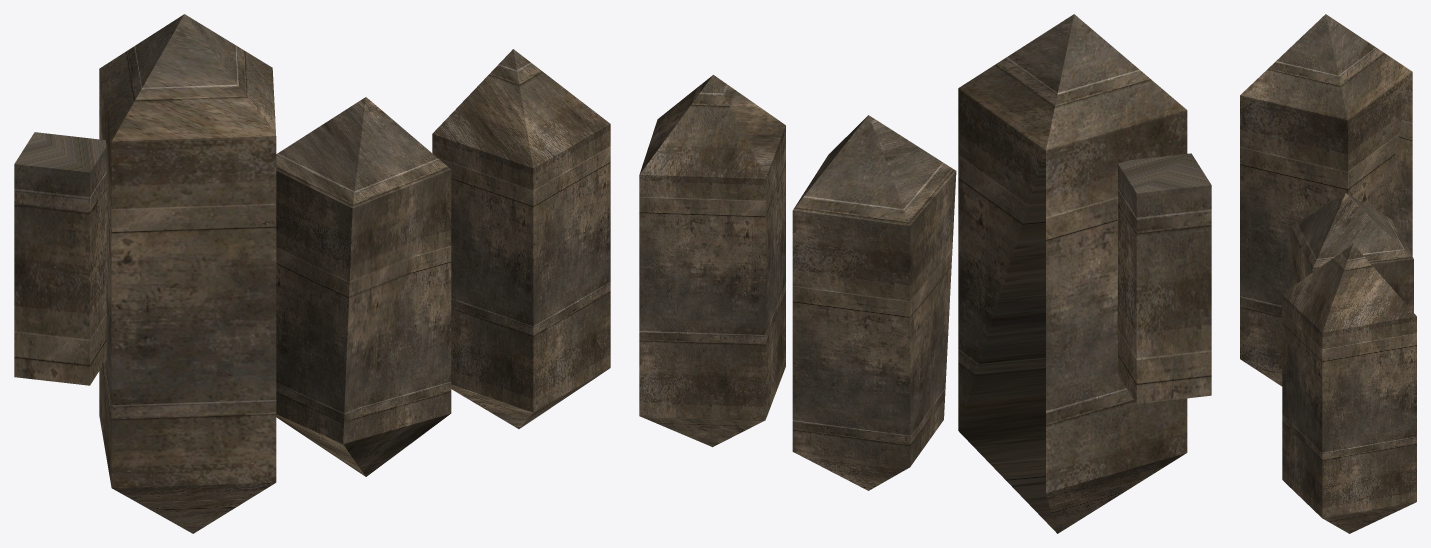
File: thm_all_tankfarm_s01_l3.fbx
3 renders of one model, left to right at view 1: azimuth 30°, elevation 25°; view 2: azimuth 150°, elevation 25°; view 3: azimuth 270°, elevation 25°, orthographic. The views are drawn at different scales.
Visible parts, largest first — view 1: mesh_node; view 2: mesh_node; view 3: mesh_node.
Boxes of the visible parts, x1,y1,x2,y2 form: mesh_node: [14, 14, 610, 533]; mesh_node: [639, 14, 1211, 533]; mesh_node: [1240, 14, 1416, 533].
Bounding box in the file's own units: 7.03 × 6.11 × 2.44.
